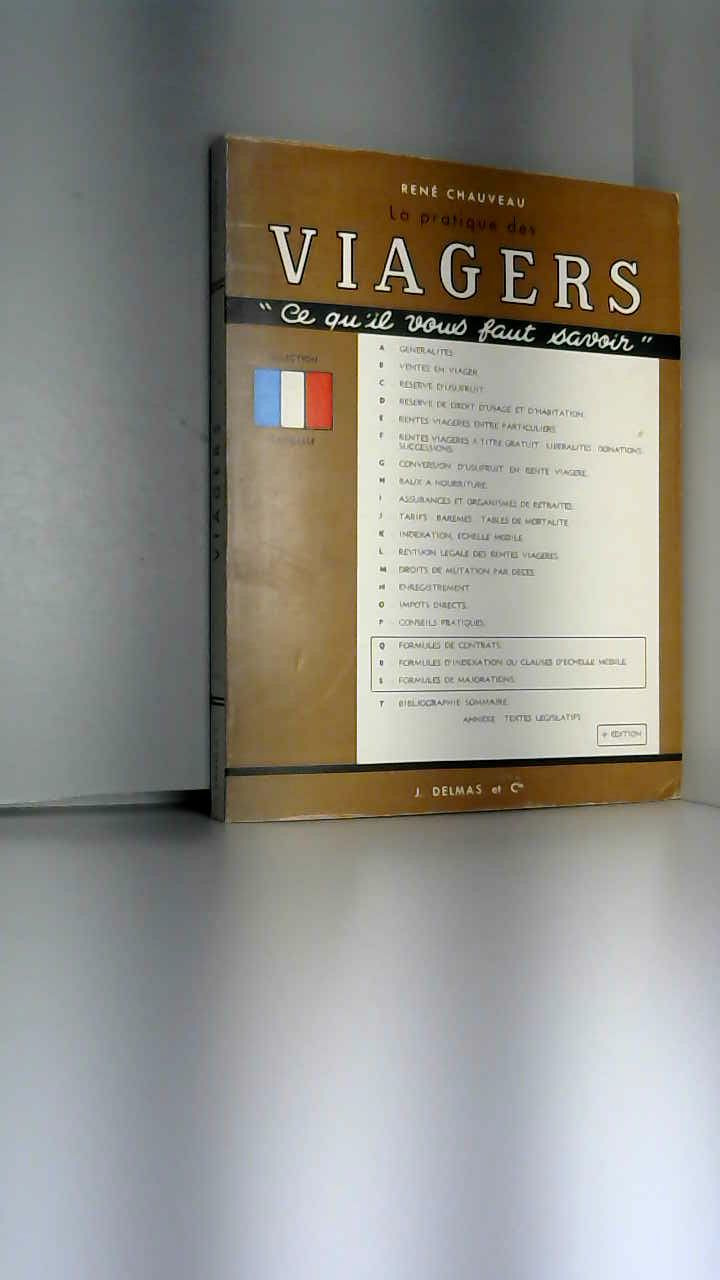book: (180, 110, 720, 857)
